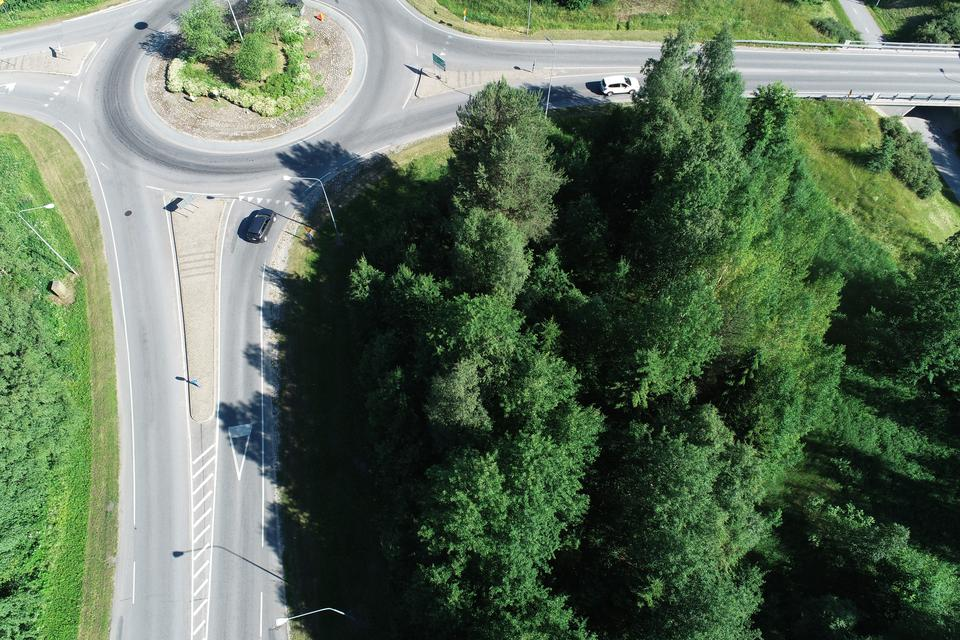roundabout: (21, 0, 488, 269)
